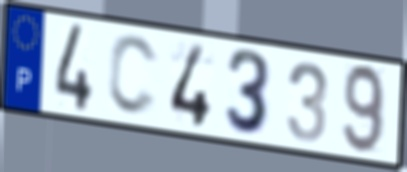3: (223, 47, 275, 138), (285, 59, 330, 144)
4: (167, 40, 214, 130), (54, 20, 95, 115)
9: (339, 62, 387, 159)
C: (105, 32, 161, 120)
